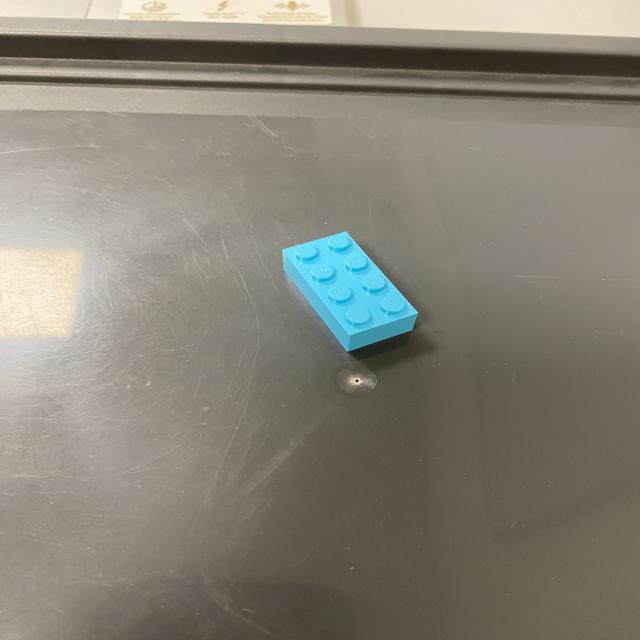C4x2x1: (281, 228, 421, 335), (280, 252, 351, 353)
